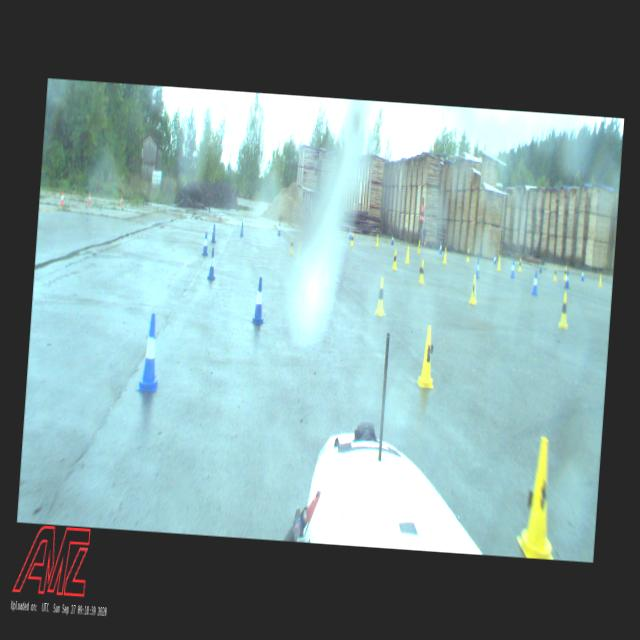blue_cone: (138, 314, 162, 392), (252, 277, 266, 323), (208, 248, 215, 280), (200, 230, 208, 253), (530, 272, 538, 294), (210, 223, 217, 240), (510, 260, 515, 278), (565, 270, 570, 288), (476, 257, 480, 279), (239, 222, 244, 237), (580, 267, 585, 280), (277, 222, 281, 235), (438, 241, 442, 253), (348, 228, 352, 240), (538, 260, 542, 272), (391, 233, 394, 244), (493, 253, 496, 264)
orange_cone: (60, 192, 64, 204), (88, 192, 91, 204), (120, 196, 122, 206)
yellow_cone: (516, 436, 562, 560), (417, 327, 437, 388), (374, 277, 388, 315), (558, 292, 570, 328), (469, 274, 478, 304), (418, 260, 424, 283), (324, 266, 330, 286), (288, 235, 295, 252), (405, 246, 410, 264), (392, 250, 396, 270), (443, 247, 447, 263), (497, 255, 501, 270), (518, 257, 522, 270), (553, 266, 556, 280), (350, 232, 353, 245), (417, 240, 420, 253), (466, 248, 469, 260), (599, 274, 602, 286), (564, 266, 566, 278), (376, 234, 378, 246)
